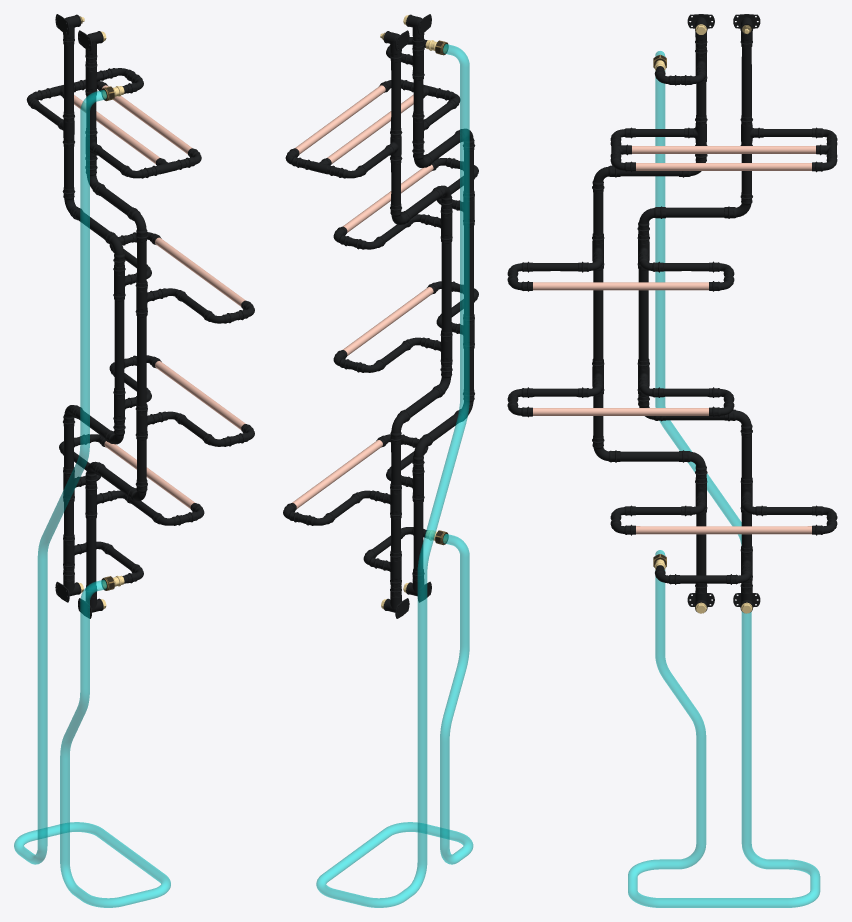
The picture shows the model from 3 angles, left to right: view 1: azimuth 30°, elevation 25°; view 2: azimuth 150°, elevation 25°; view 3: azimuth 270°, elevation 25°; orthographic projection.
Visible parts, largest first — view 1: Assemble.88, Solid.1, Assemble.93; view 2: Assemble.88, Solid.1, Assemble.93; view 3: Assemble.88, Solid.1, Assemble.93.
Part boxes in pixels (<box>): Assemble.88: <box>26,14,254,618</box>; Solid.1: <box>14,90,170,907</box>; Assemble.93: <box>74,85,245,508</box>; Assemble.88: <box>283,14,478,618</box>; Solid.1: <box>316,44,473,907</box>; Assemble.93: <box>292,85,433,508</box>; Assemble.88: <box>507,14,837,612</box>; Solid.1: <box>628,51,820,907</box>; Assemble.93: <box>533,146,815,534</box>.
Bounding box in the file's own units: 0.274 × 2.09 × 0.7239.
6 materials, 1 textured.
